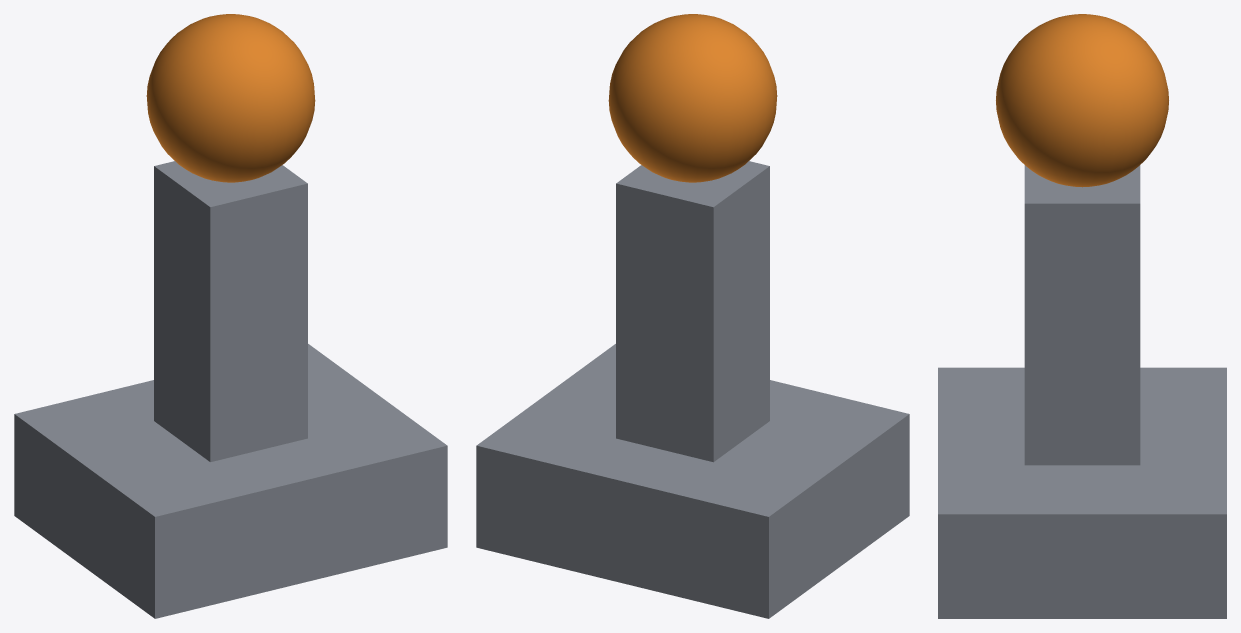
File: smoke.glb
3 views of the same model, side by side, from view 1: azimuth 30°, elevation 25°; view 2: azimuth 150°, elevation 25°; view 3: azimuth 270°, elevation 25° (orthographic). The views are drawn at different scales.
Visible parts, largest first — view 1: plinth, pillar, cap; view 2: plinth, pillar, cap; view 3: plinth, pillar, cap.
Boxes of the visible parts, bbox=[...] form: plinth: bbox=[14, 344, 447, 618]; pillar: bbox=[154, 161, 307, 462]; cap: bbox=[146, 14, 315, 182]; plinth: bbox=[476, 344, 909, 618]; pillar: bbox=[616, 161, 769, 462]; cap: bbox=[608, 14, 777, 182]; plinth: bbox=[938, 367, 1226, 618]; pillar: bbox=[1024, 165, 1140, 465]; cap: bbox=[996, 14, 1168, 187].
Size of the model in its own units: 0.12 by 0.2 by 0.1.
